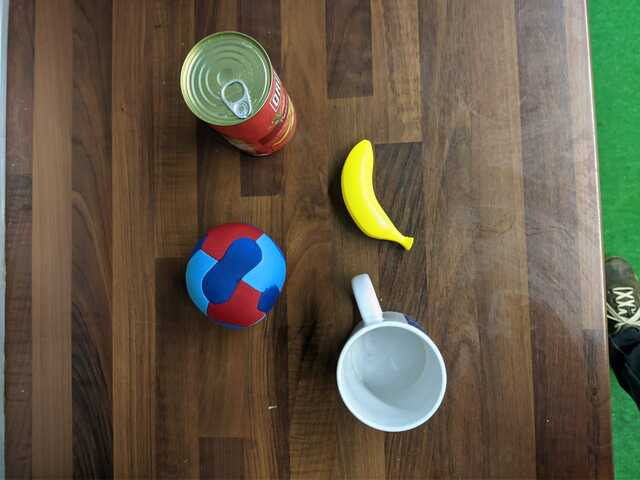005_tomato_soup_can: (179, 29, 296, 158)
011_banana: (339, 138, 415, 250)
025_mug: (331, 272, 449, 433)
057_racquetball: (184, 223, 285, 327)
